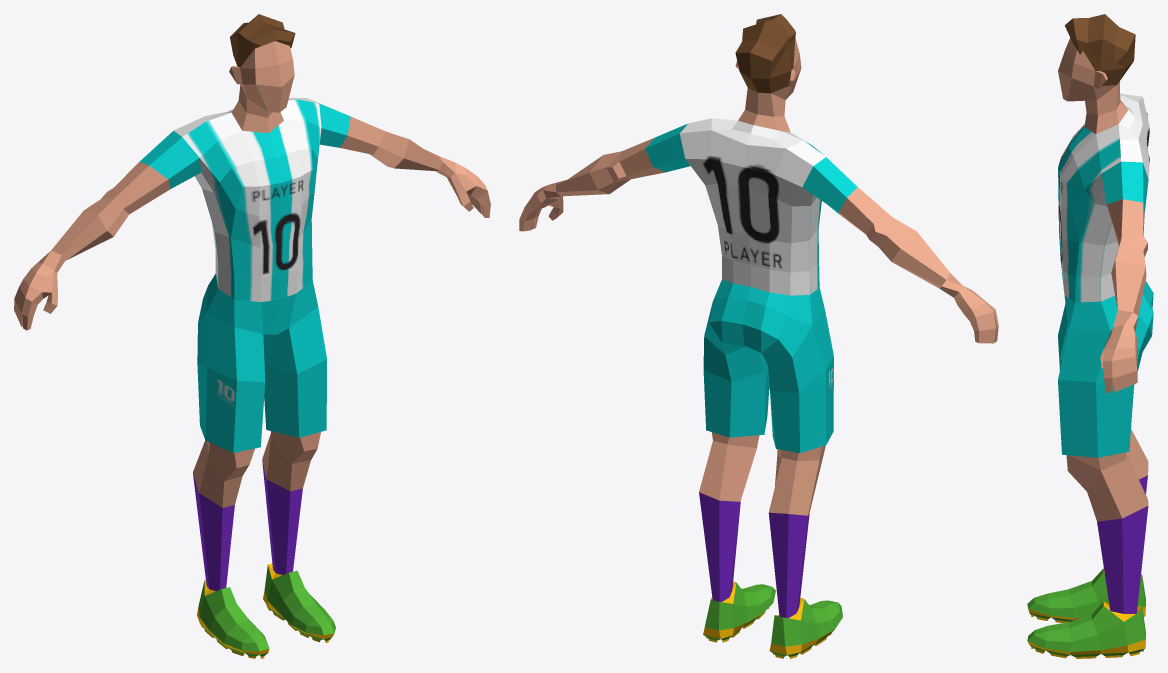
File: SoccerManB.gltf
The picture shows the model from 3 angles, left to right: view 1: azimuth 30°, elevation 25°; view 2: azimuth 150°, elevation 25°; view 3: azimuth 270°, elevation 25°; orthographic projection.
Visible parts, largest first — view 1: Soccer Man B; view 2: Soccer Man B; view 3: Soccer Man B.
Part boxes in pixels (bbox=[...]): Soccer Man B: bbox=[14, 14, 490, 658]; Soccer Man B: bbox=[519, 14, 998, 658]; Soccer Man B: bbox=[1027, 14, 1153, 658].
Size of the model in its own units: 1.35 by 1.7 by 0.3125.
Materials: 1 (1 with a texture image).
